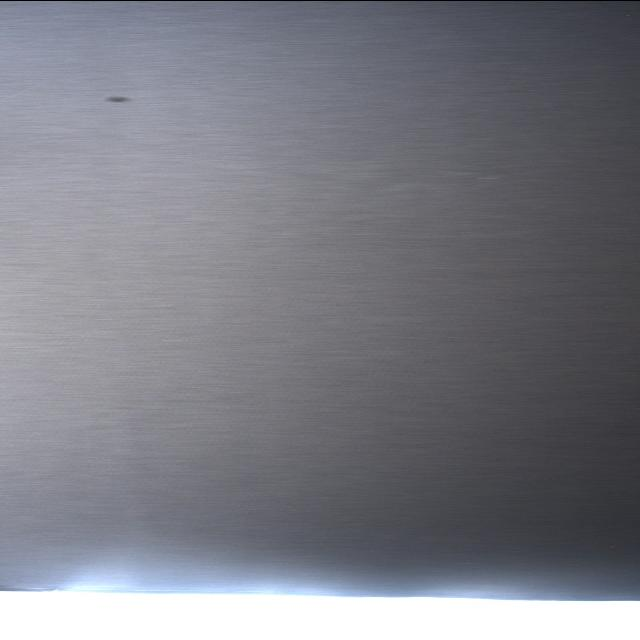crease: (117, 422, 156, 510)
whiteDefect: (367, 167, 527, 207)
